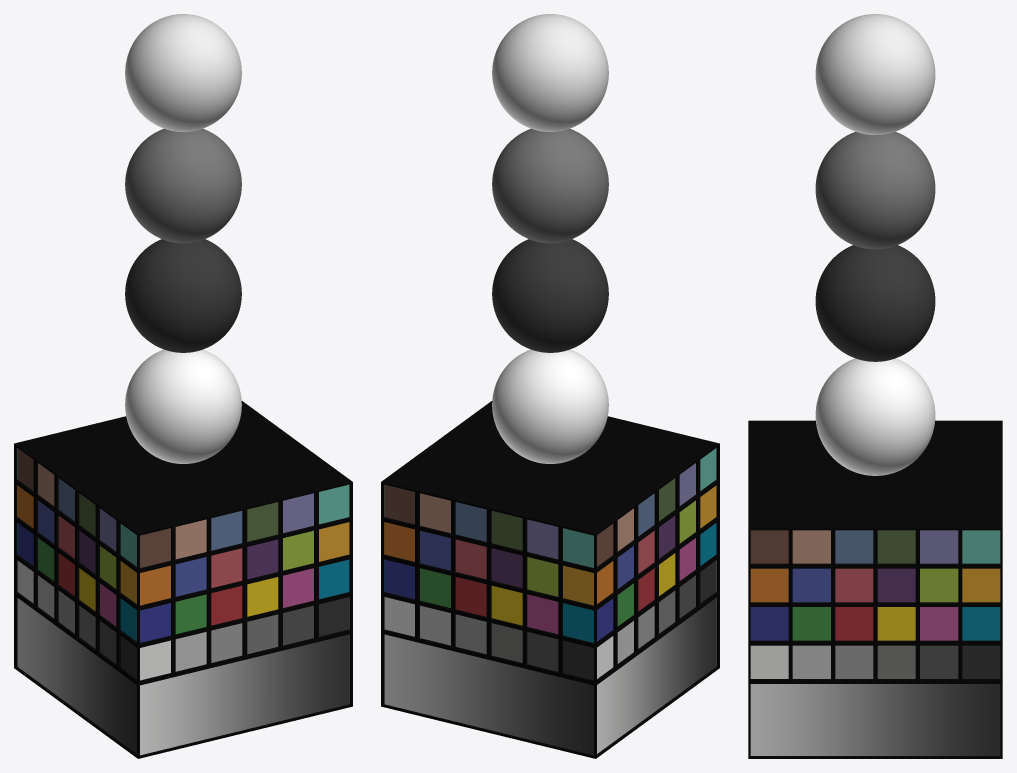
File: ColorCalibrator.glb
3 views of the same model, side by side, from view 1: azimuth 30°, elevation 25°; view 2: azimuth 150°, elevation 25°; view 3: azimuth 270°, elevation 25° (orthographic). The views are drawn at different scales.
Parts seen in each view (by area): view 1: SM_ColorCalibrator; view 2: SM_ColorCalibrator; view 3: SM_ColorCalibrator.
Boxes of the visible parts, x1,y1,x2,y2 form: SM_ColorCalibrator: [14, 14, 352, 758]; SM_ColorCalibrator: [381, 14, 719, 758]; SM_ColorCalibrator: [748, 14, 1002, 758].
Bounding box in the file's own units: 0.6 × 1.78 × 0.6.
5 materials, 1 textured.
